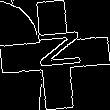N_W: (28, 33, 82, 77)
